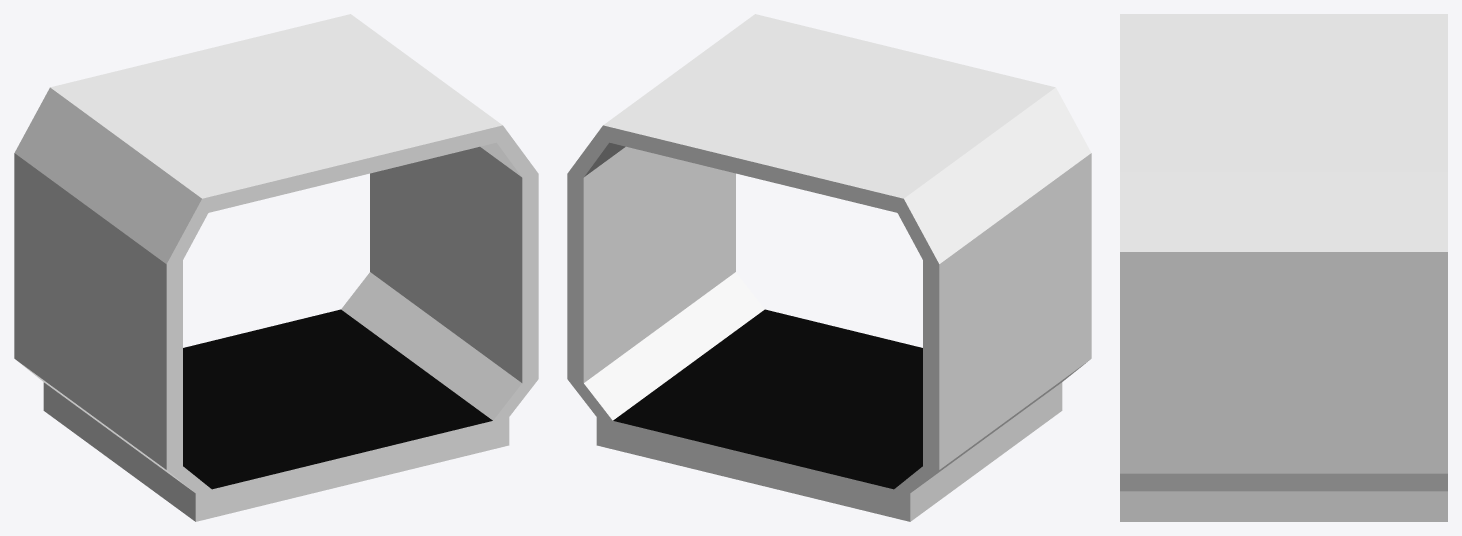
Rendered from Hallway.dae.
The picture shows the model from 3 angles, left to right: view 1: azimuth 30°, elevation 25°; view 2: azimuth 150°, elevation 25°; view 3: azimuth 270°, elevation 25°; orthographic projection. The views are drawn at different scales.
Visible parts, largest first — view 1: Hallway; view 2: Hallway; view 3: Hallway.
Part boxes in pixels (x1=…): Hallway: x1=14, y1=14, x2=538, y2=521; Hallway: x1=567, y1=14, x2=1091, y2=521; Hallway: x1=1120, y1=14, x2=1447, y2=521.
Size of what is drawn, in the model's own units: 2.82 by 2 by 2.33.
